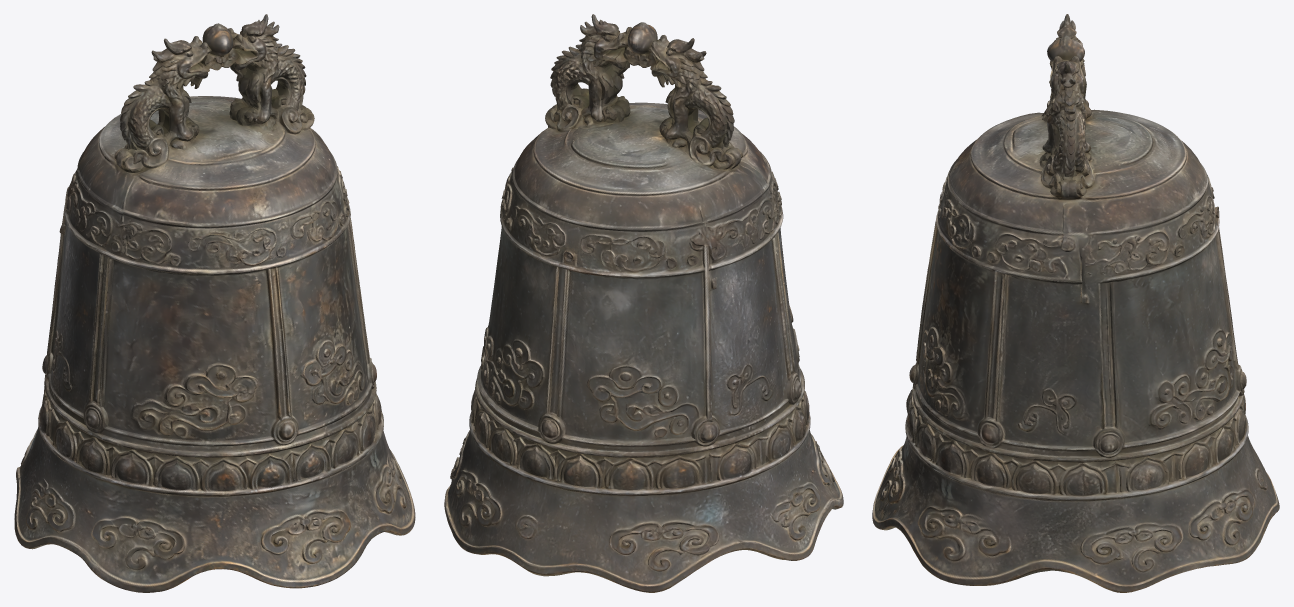
The model's file is bell.glb.
3 renders of one model, left to right at view 1: azimuth 30°, elevation 25°; view 2: azimuth 150°, elevation 25°; view 3: azimuth 270°, elevation 25°, orthographic.
Parts seen in each view (by area): view 1: model; view 2: model; view 3: model.
Part boxes in pixels (left/top/right/bottom): model: left=14, top=14, right=415, bottom=592; model: left=444, top=14, right=843, bottom=592; model: left=872, top=14, right=1279, bottom=592.
Size of the model in its own units: 1.42 by 1.9 by 1.45.
Materials: 1 (1 with a texture image).
